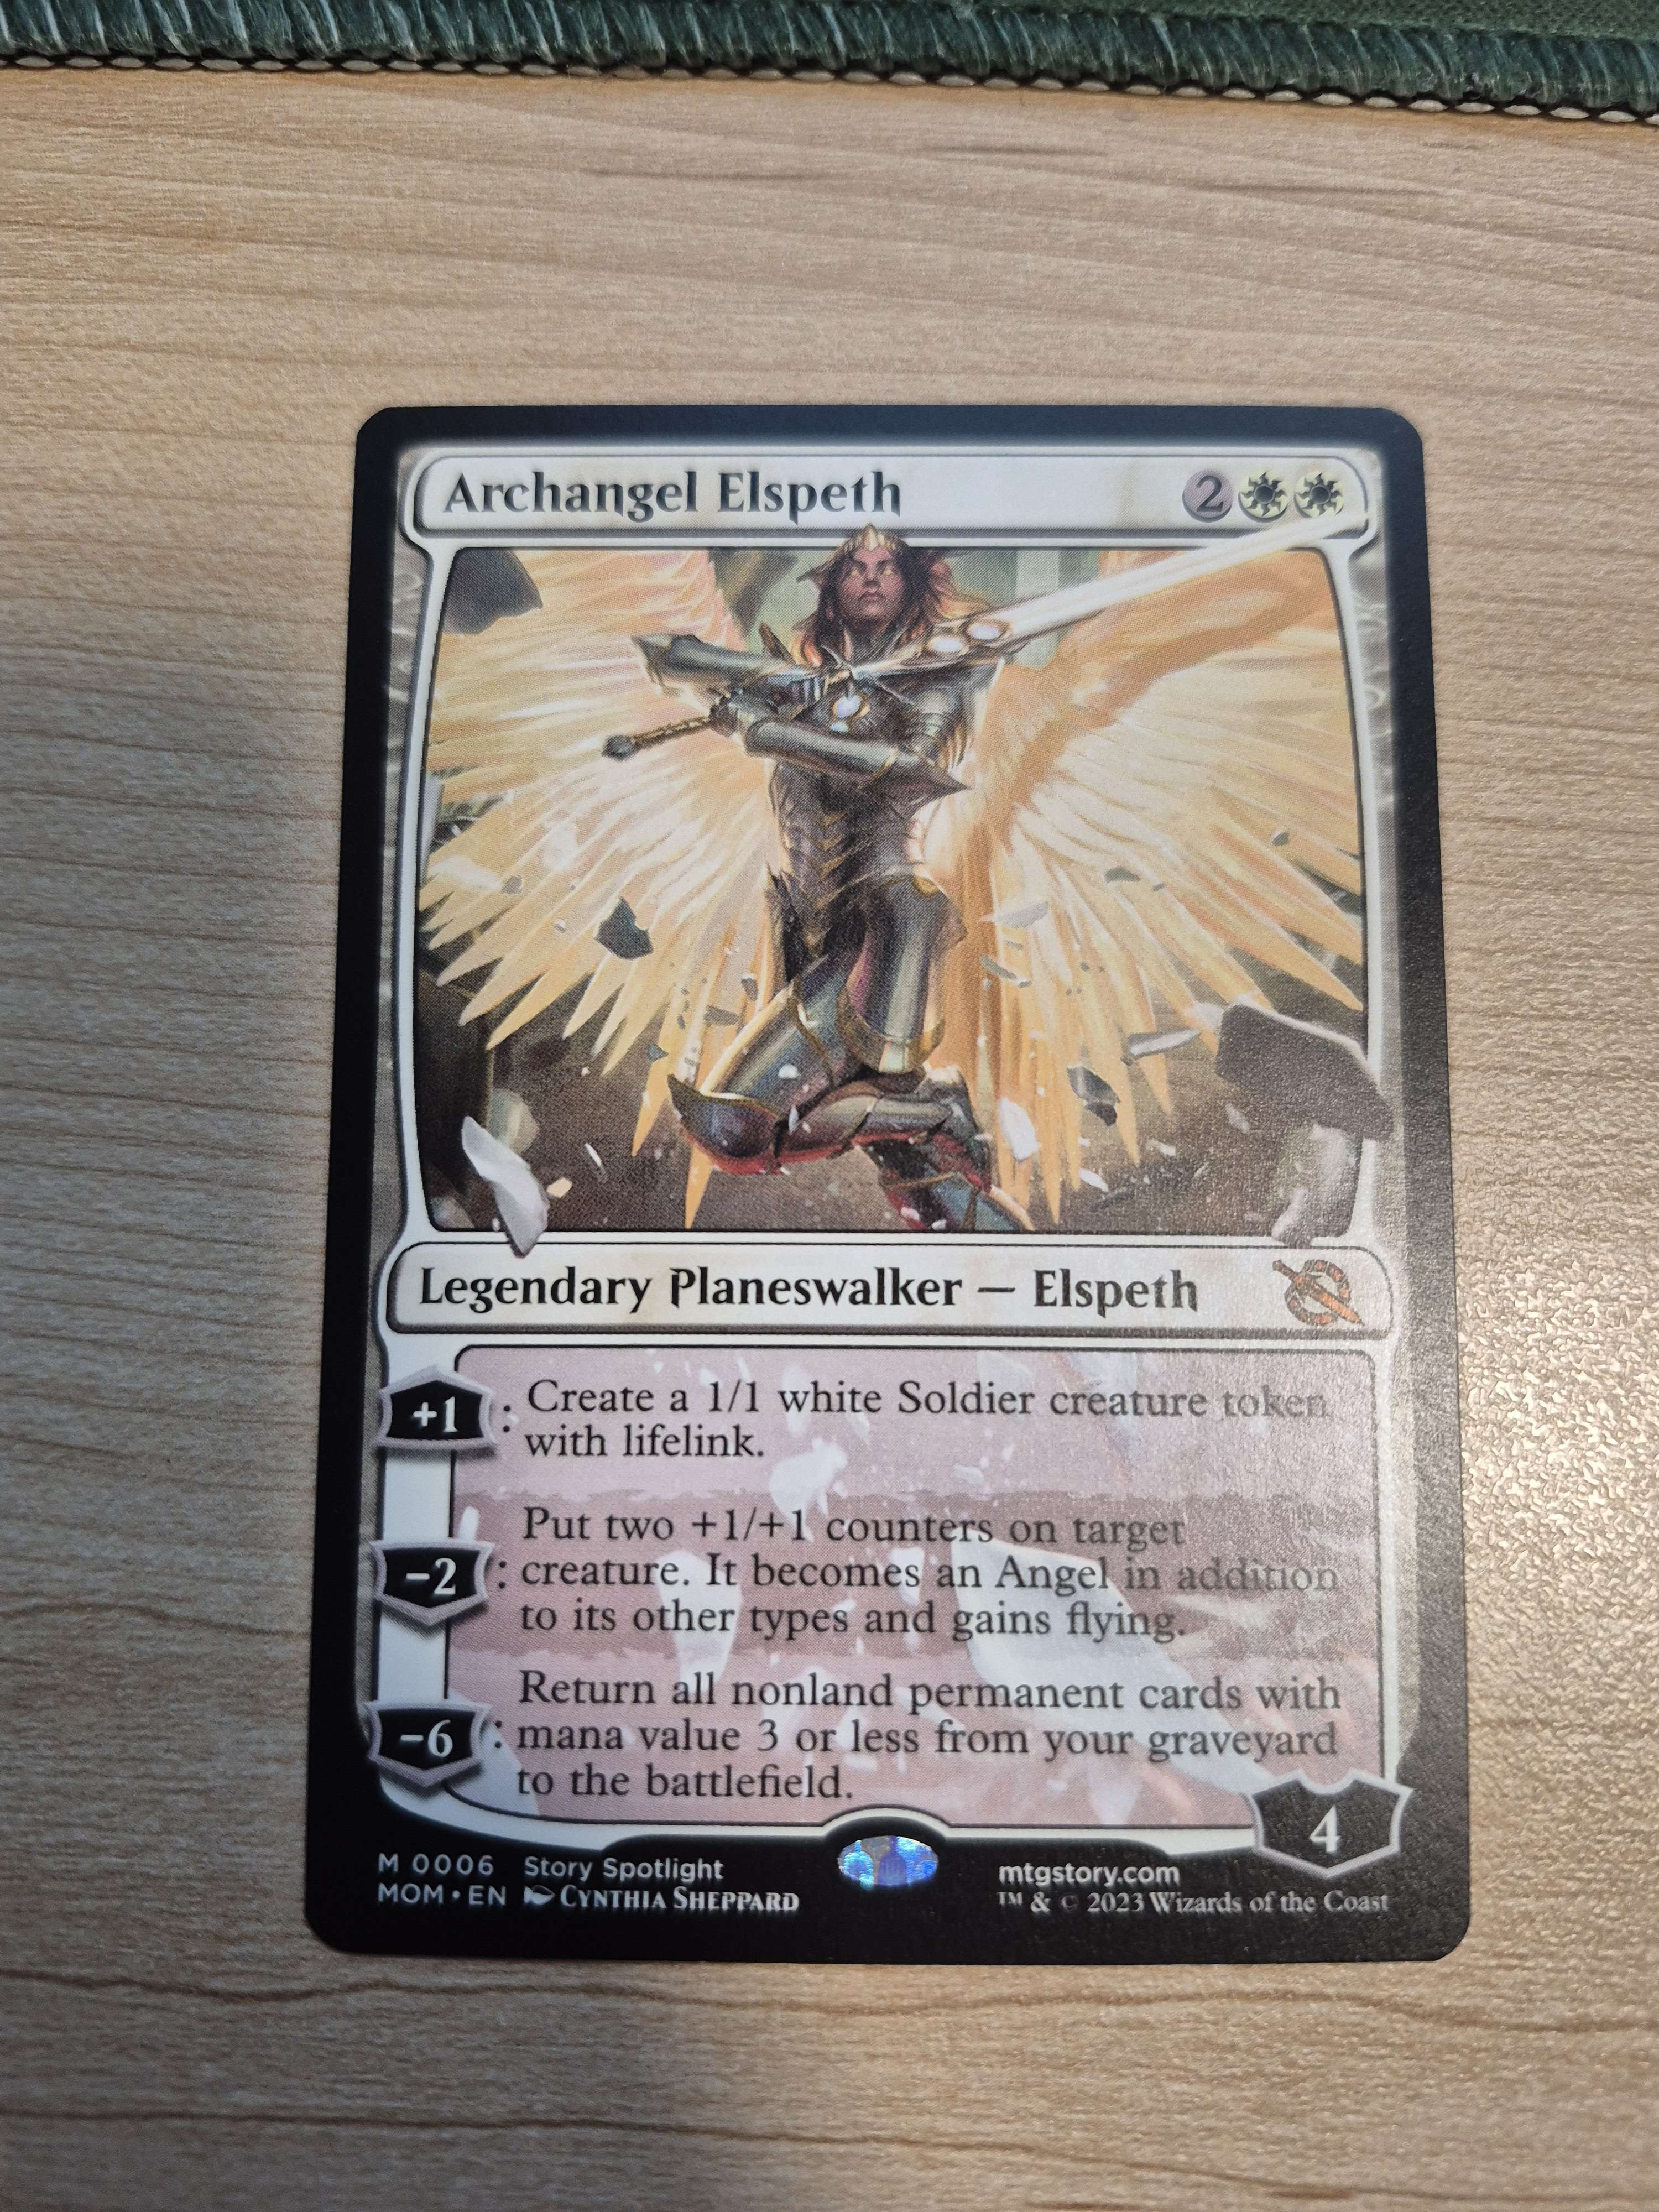mtg_card: (315, 395, 1469, 1970)
